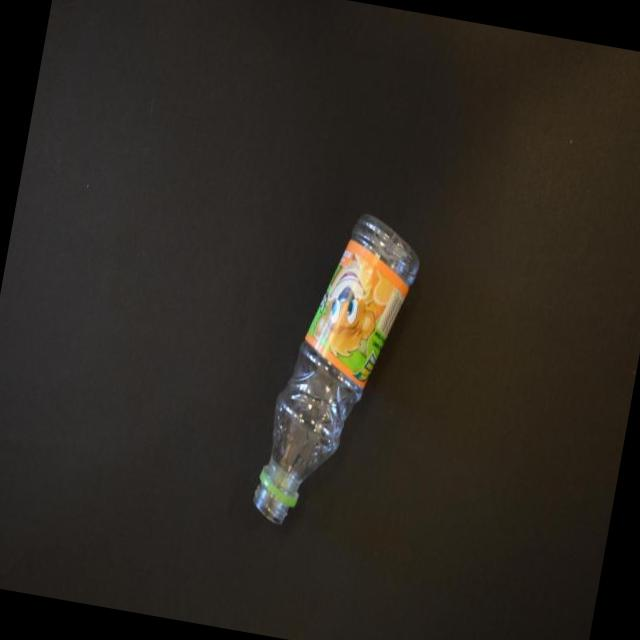plastic_bottle: (248, 202, 428, 540)
